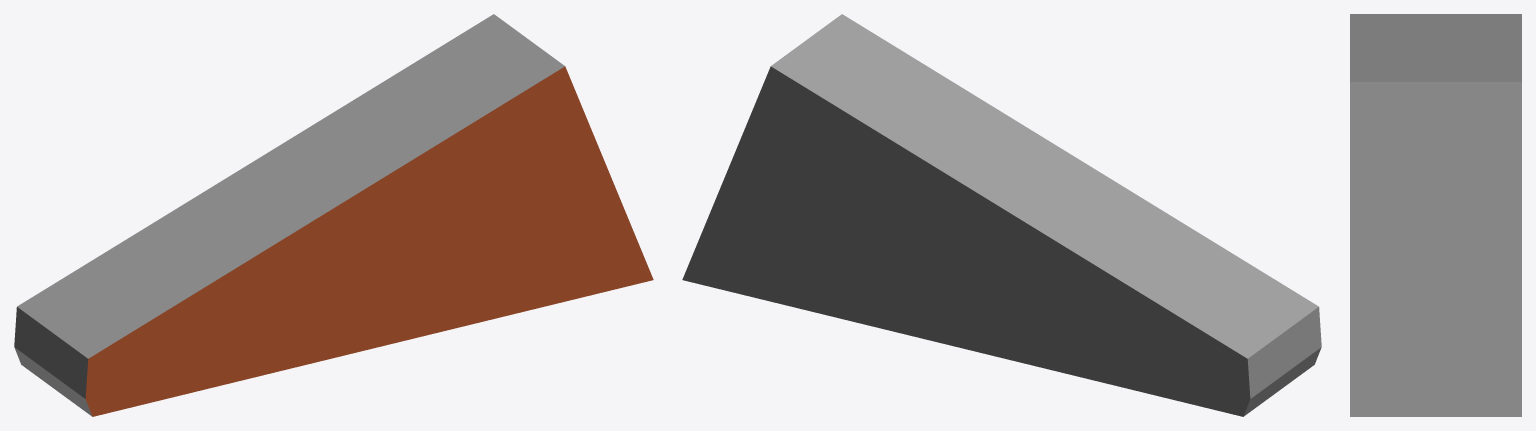
File: construction_0046_assumed_A_Cemiterio_h6m.obj
3 renders of one model, left to right at view 1: azimuth 30°, elevation 25°; view 2: azimuth 150°, elevation 25°; view 3: azimuth 270°, elevation 25°, orthographic. The views are drawn at different scales.
Visible parts, largest first — view 1: construction_0046_assumed_A_Cemiterio; view 2: construction_0046_assumed_A_Cemiterio; view 3: construction_0046_assumed_A_Cemiterio.
Part boxes in pixels (x1,y1,x2,y2): construction_0046_assumed_A_Cemiterio: (14, 14, 653, 416); construction_0046_assumed_A_Cemiterio: (682, 14, 1321, 416); construction_0046_assumed_A_Cemiterio: (1350, 14, 1521, 416).
Size of the model in its own units: 27.57 by 10.92 by 6.
